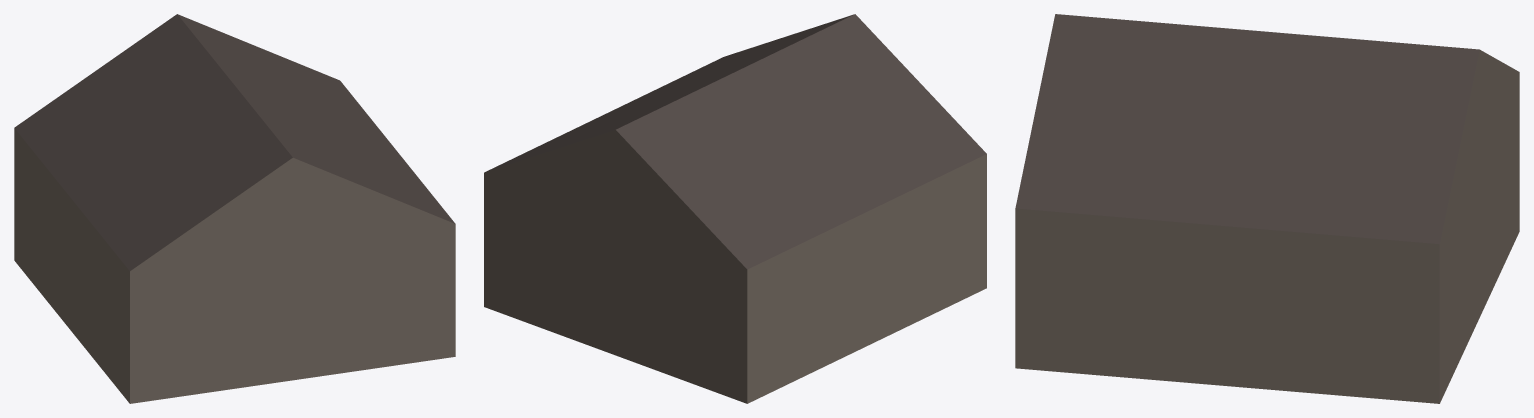
3 views of the same model, side by side, from view 1: azimuth 30°, elevation 25°; view 2: azimuth 150°, elevation 25°; view 3: azimuth 270°, elevation 25° (orthographic). The views are drawn at different scales.
Visible parts, largest first — view 1: HP-w859082527; view 2: HP-w859082527; view 3: HP-w859082527.
Boxes of the visible parts, x1,y1,x2,y2 form: HP-w859082527: (14, 14, 455, 403); HP-w859082527: (484, 14, 986, 403); HP-w859082527: (1015, 14, 1519, 403).
Size of the model in its own units: 16.73 by 10.08 by 17.16.
